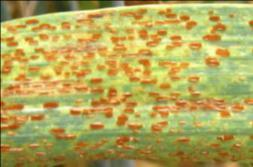Wheat: (4, 25, 251, 153)
